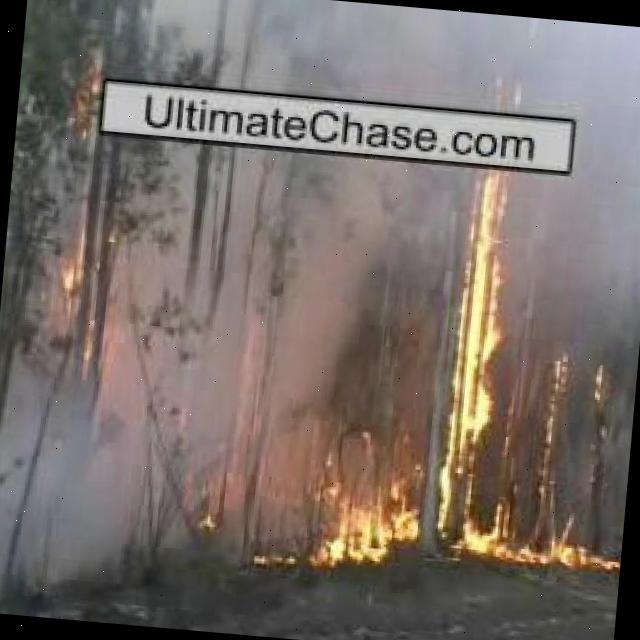fire: (424, 83, 524, 565), (290, 472, 429, 568), (51, 237, 124, 372), (495, 508, 617, 578), (539, 350, 571, 482), (192, 469, 224, 542), (74, 68, 111, 130), (590, 363, 608, 417)
